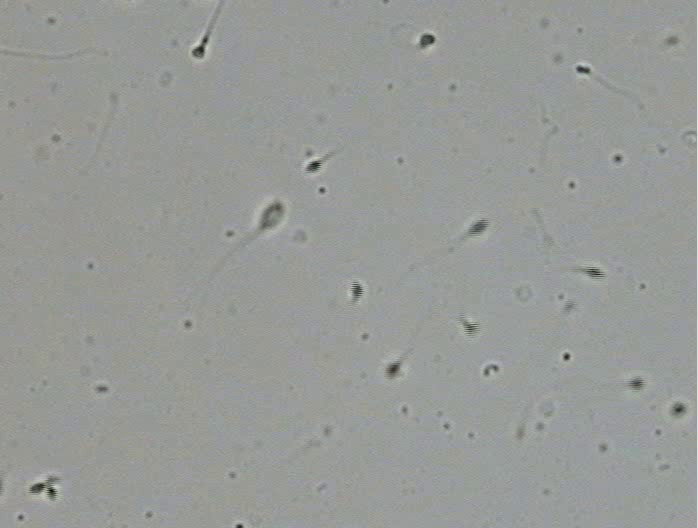S: (260, 200, 285, 228), (469, 219, 489, 235), (584, 266, 605, 280), (350, 280, 363, 302), (463, 320, 480, 336), (385, 362, 400, 378), (420, 33, 435, 48), (306, 160, 323, 173), (629, 377, 644, 390), (671, 403, 686, 416), (29, 483, 46, 494), (46, 485, 57, 502), (192, 45, 205, 59), (575, 65, 591, 74)
